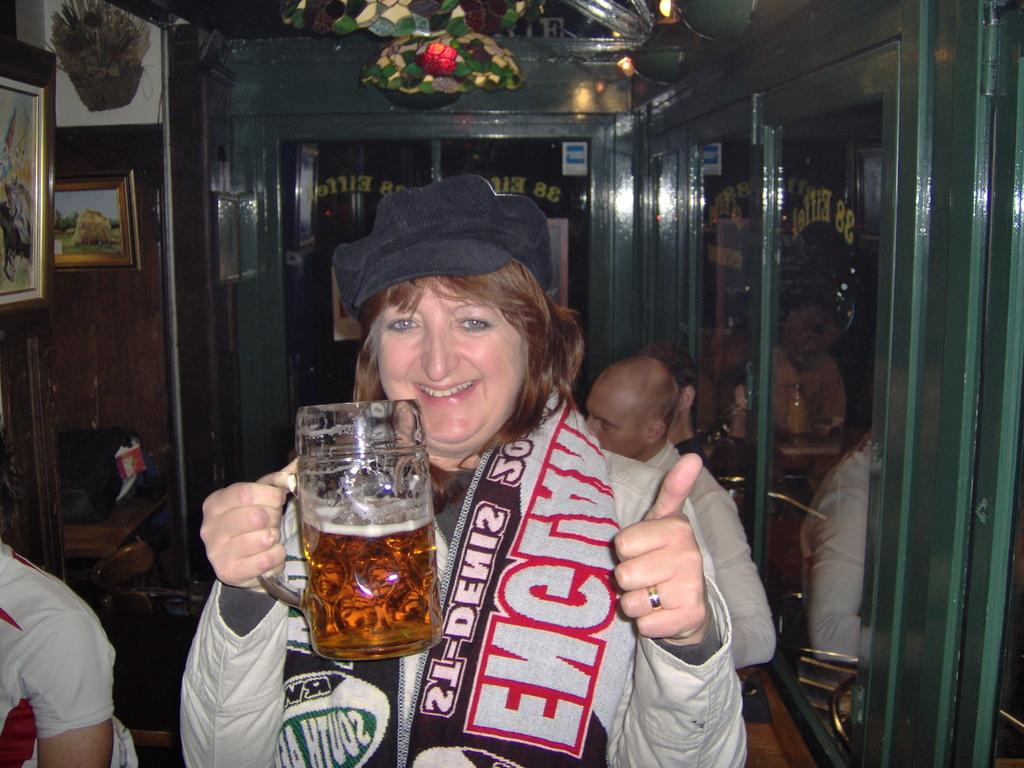Hat: (318, 181, 563, 337)
